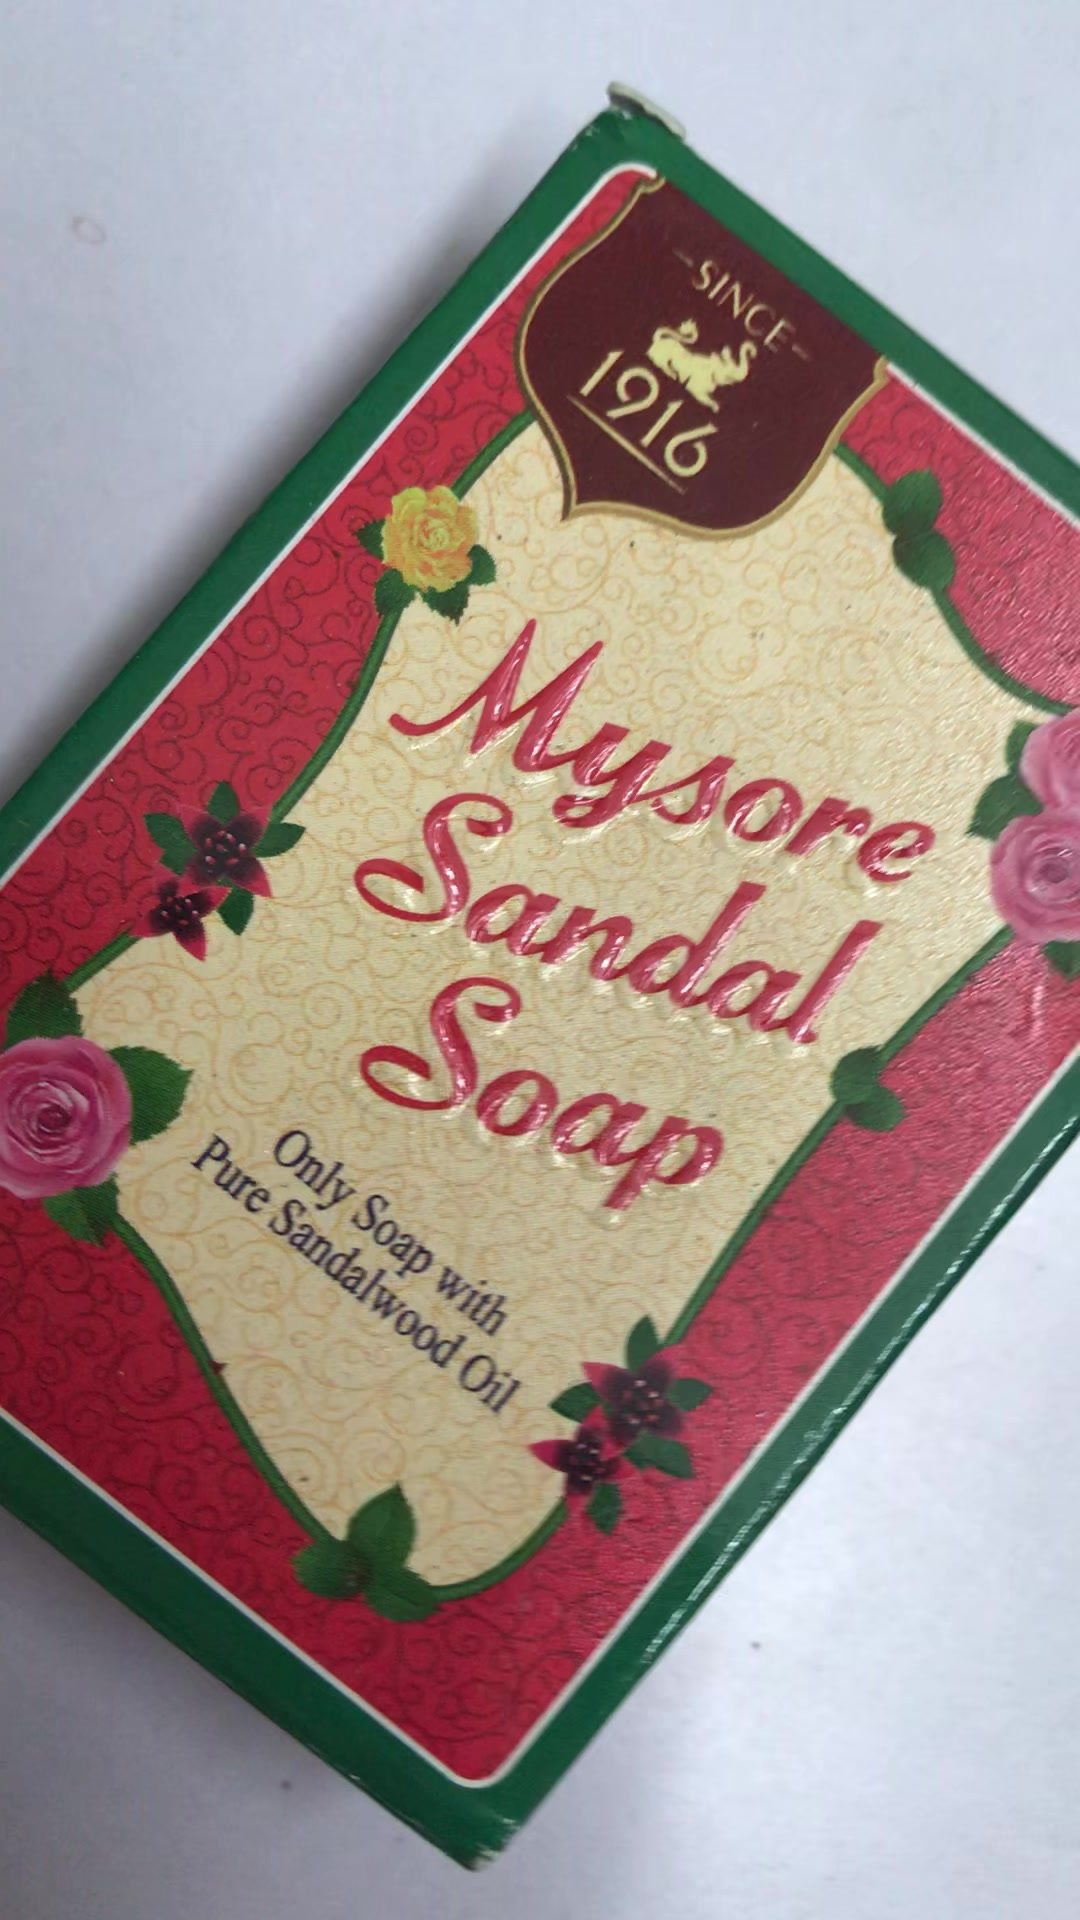mysore sandal soap: (1, 105, 1068, 1883)
